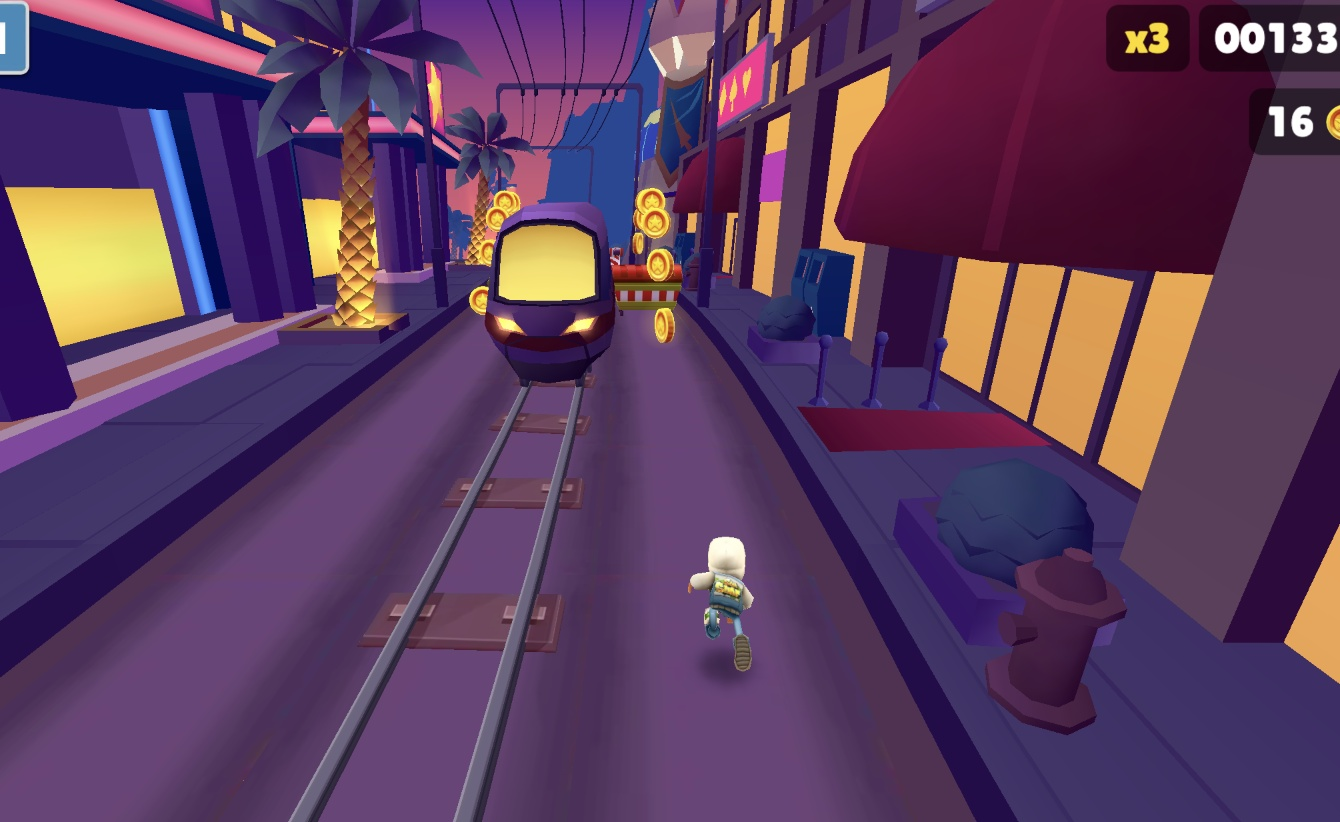ground_barrier: (611, 259, 681, 309), (609, 243, 623, 262)
train: (482, 198, 614, 384)
